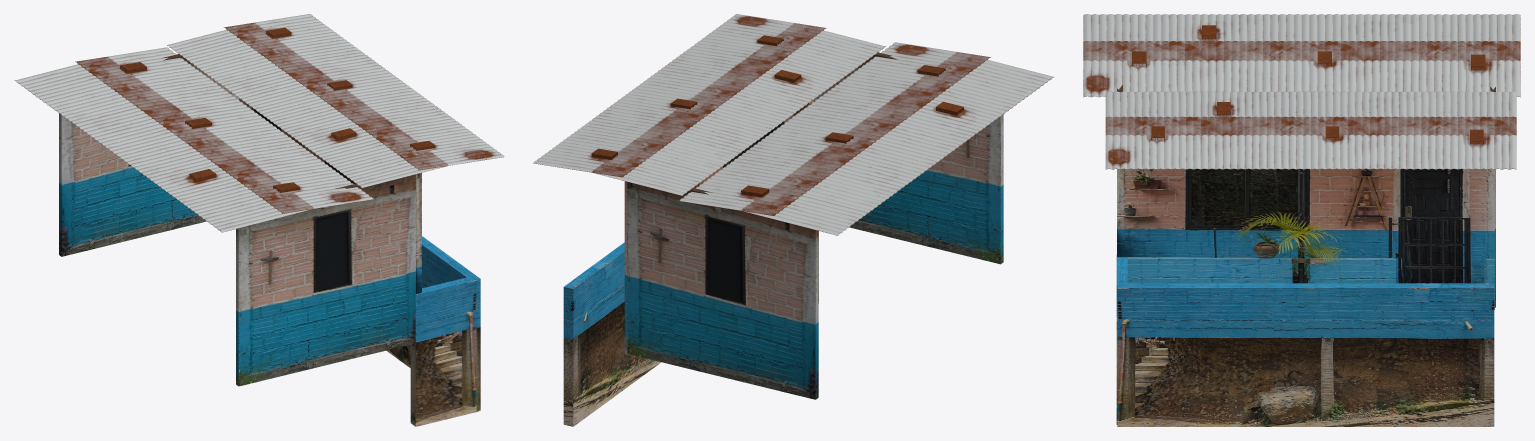
File: casa_derecha_11.fbx
3 views of the same model, side by side, from view 1: azimuth 30°, elevation 25°; view 2: azimuth 150°, elevation 25°; view 3: azimuth 270°, elevation 25° (orthographic). The views are drawn at different scales.
Parts seen in each view (by area): view 1: Techo 11, casa_derecha_11C.002, casa_derecha_11C.001, casa_derecha_11B.002, casa_derecha_11B.001, casa_derecha_11.001; view 2: Techo 11, casa_derecha_11C.001, casa_derecha_11C.002, casa_derecha_11B.001, casa_derecha_11.001; view 3: Techo 11, casa_derecha_11B.001, casa_derecha_11.001, casa_derecha_11B.002.
Boxes of the visible parts, x1,y1,x2,y2 form: Techo 11: (14,14,504,232); casa_derecha_11C.002: (236,174,415,386); casa_derecha_11C.001: (59,54,238,256); casa_derecha_11B.002: (410,277,476,426); casa_derecha_11B.001: (386,236,480,411); casa_derecha_11.001: (239,98,421,294); Techo 11: (533,14,1054,235); casa_derecha_11C.001: (627,182,818,399); casa_derecha_11C.002: (815,52,1003,264); casa_derecha_11B.001: (563,242,660,426); casa_derecha_11.001: (624,98,815,355); Techo 11: (1083,14,1520,169); casa_derecha_11B.001: (1117,283,1494,426); casa_derecha_11.001: (1117,169,1494,309); casa_derecha_11B.002: (1116,255,1127,424).
Size of the model in its own units: 941 by 805 by 1152.
